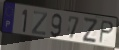1: (21, 9, 28, 35)
7: (67, 15, 80, 40)
9: (50, 13, 63, 39)
P: (98, 20, 115, 45)
Z: (30, 11, 49, 37), (82, 17, 98, 43)
